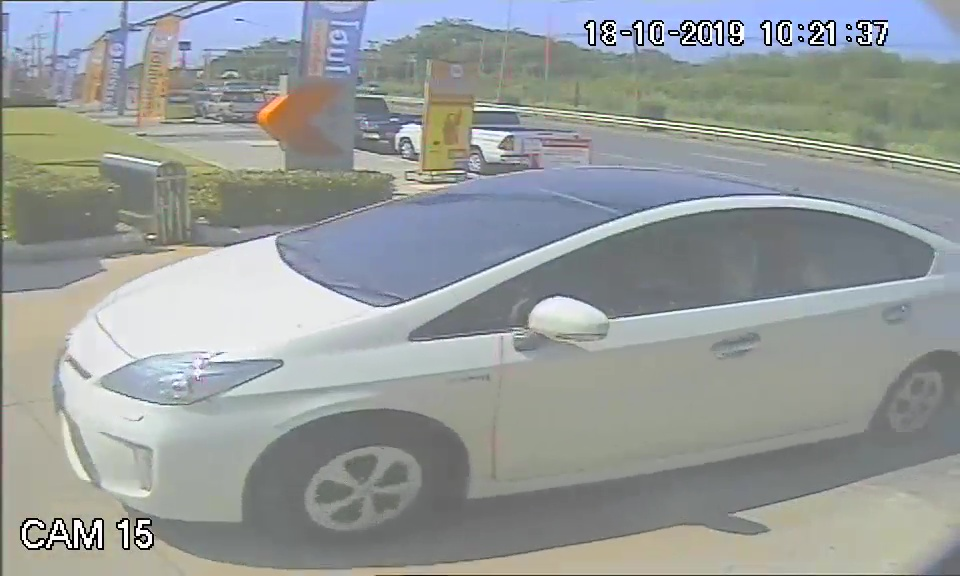sedan: (55, 163, 960, 522)
